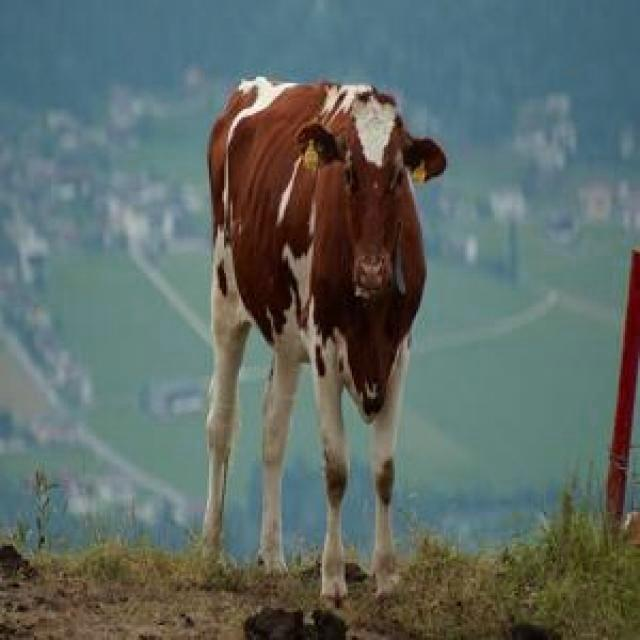cow: (204, 78, 446, 598)
